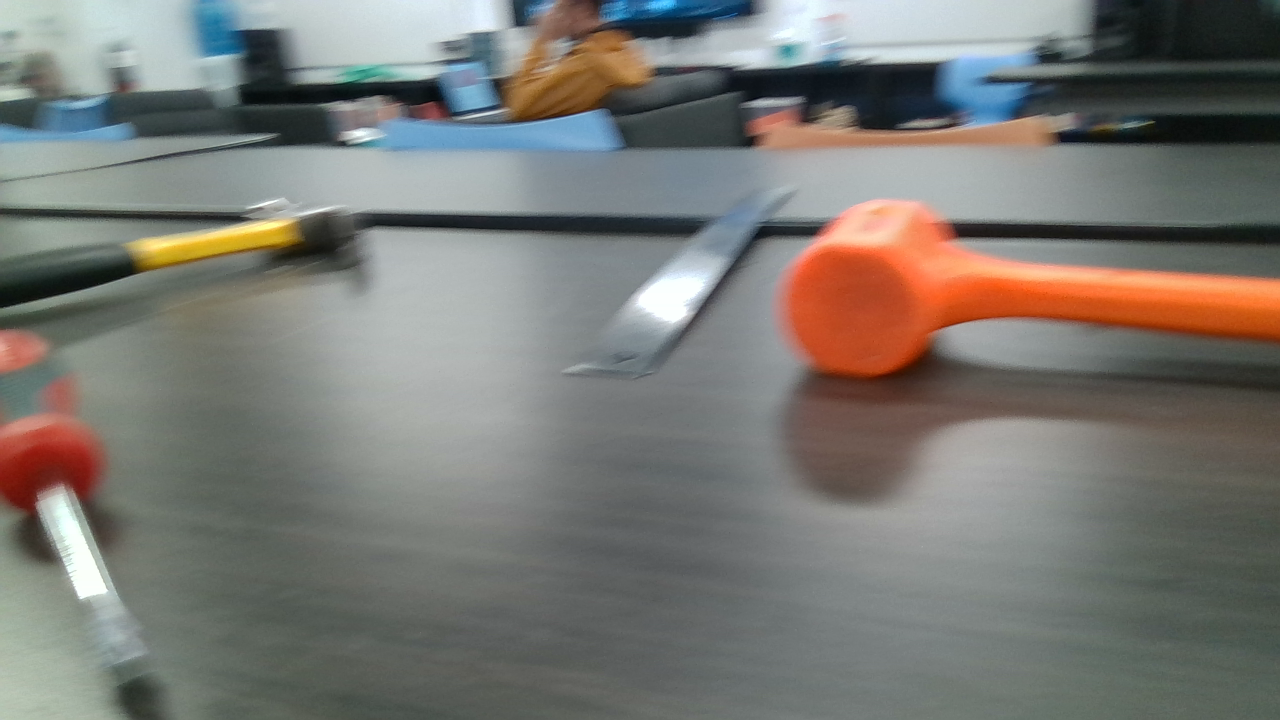Orange Hammer: (779, 197, 1269, 381)
